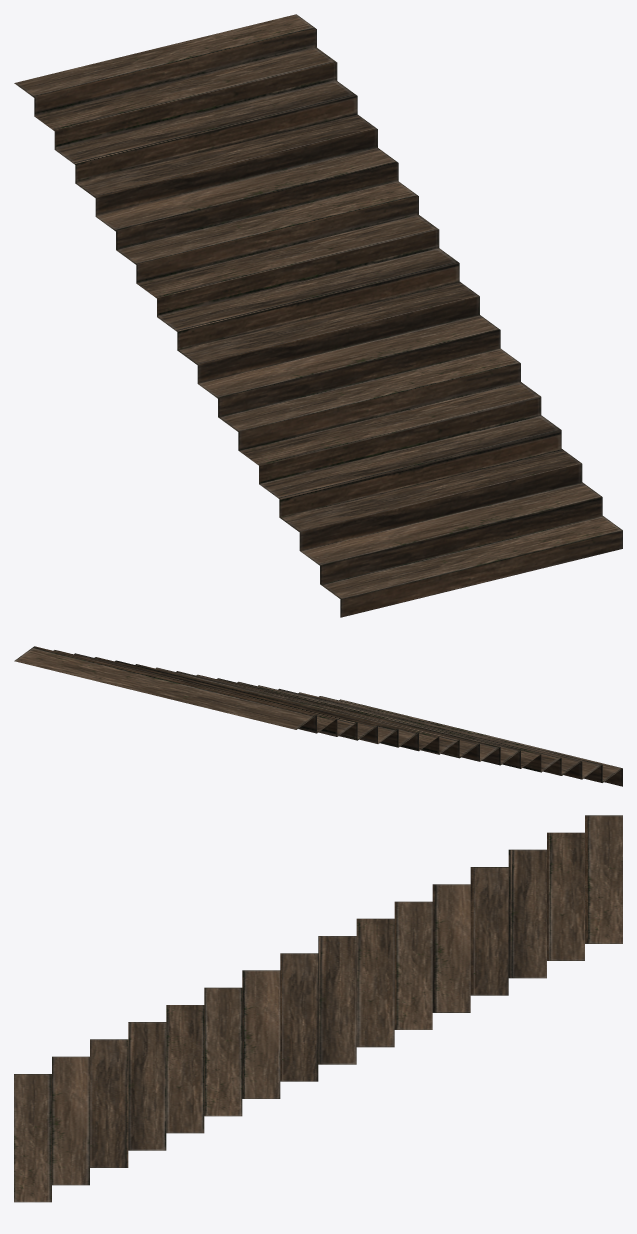
File: stairs_001.obj
The picture shows the model from 3 angles, top to bottom: view 1: azimuth 30°, elevation 25°; view 2: azimuth 150°, elevation 25°; view 3: azimuth 270°, elevation 25°; orthographic projection. The views are drawn at different scales.
Parts seen in each view (by area): view 1: Stairs_Wide_Full; view 2: Stairs_Wide_Full; view 3: Stairs_Wide_Full.
Part boxes in pixels (x1,y1,x2,y2): Stairs_Wide_Full: [14, 14, 622, 617]; Stairs_Wide_Full: [14, 646, 622, 786]; Stairs_Wide_Full: [14, 815, 622, 1202].
Size of the model in its own units: 3 by 3 by 6.
1 material, 1 textured.
